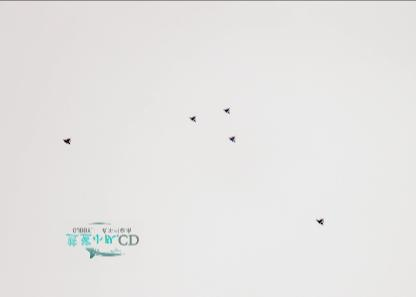F4: (63, 137, 72, 145), (316, 218, 324, 226), (188, 116, 196, 122), (228, 136, 236, 142), (222, 108, 230, 114)
